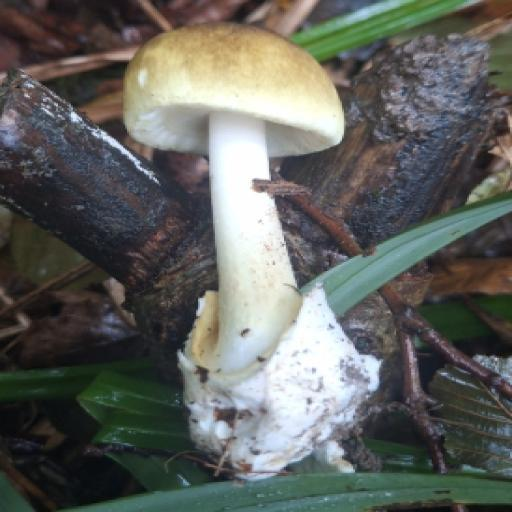mushroom: (96, 0, 410, 329)
